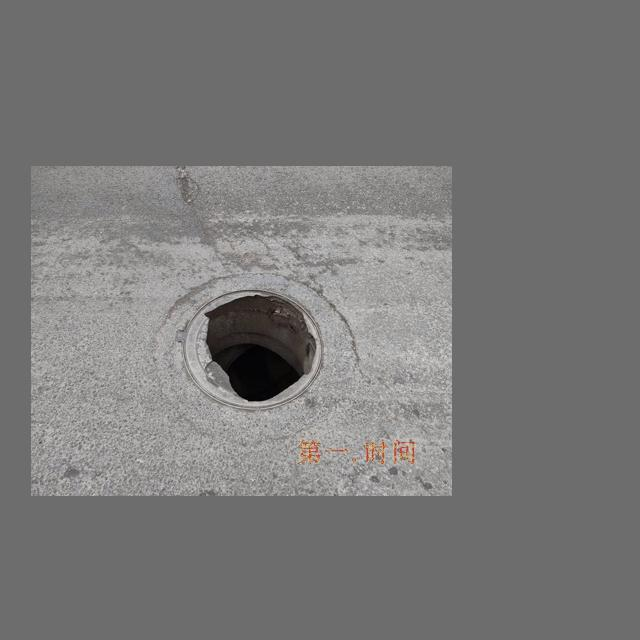broke: (154, 270, 364, 440)
